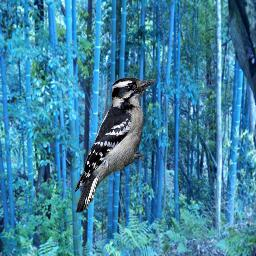Woodpecker: (74, 75, 156, 214)
